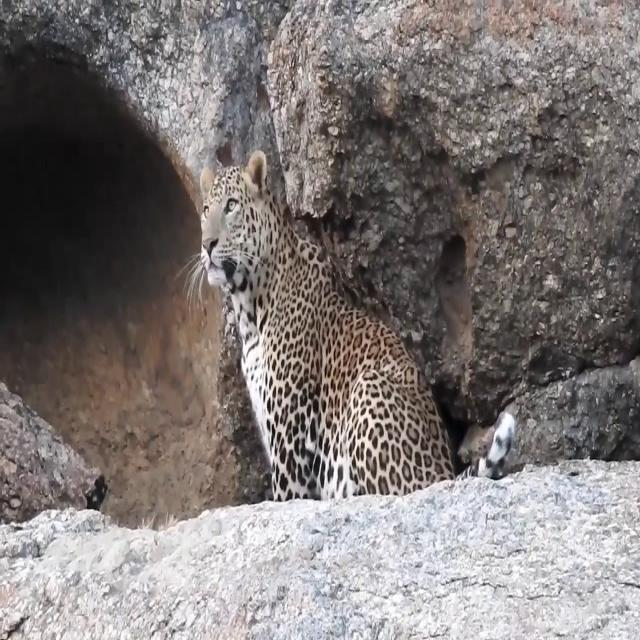Leopard: (197, 151, 453, 489)
